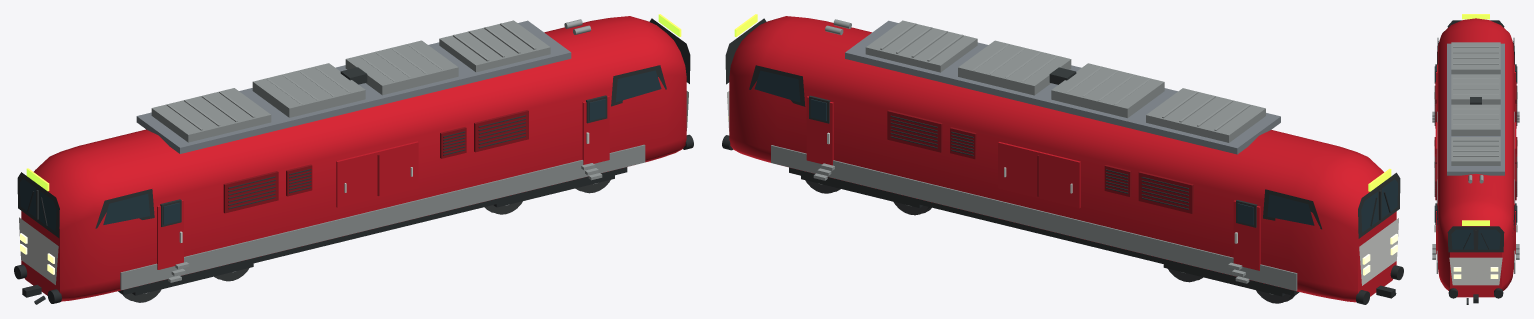
3 views of the same model, side by side, from view 1: azimuth 30°, elevation 25°; view 2: azimuth 150°, elevation 25°; view 3: azimuth 270°, elevation 25° (orthographic). The views are drawn at different scales.
Visible parts, largest first — view 1: br245_lofted_body, br245_lower_grey_band_-1, br245_roof_spine, br245_centre_access_panel_-1, br245_roof_module_1, br245_roof_module_0, br245_roof_module_2, br245_roof_module_3, br245_underframe, br245_engine_grille_-1_0, br245_engine_grille_-1_3, br245_cab_-1_light_fascia (+16 smaller); view 2: br245_lofted_body, br245_lower_grey_band_1, br245_roof_spine, br245_centre_access_panel_1, br245_roof_module_1, br245_roof_module_0, br245_roof_module_2, br245_roof_module_3, br245_underframe, br245_bogie_b, br245_engine_grille_1_3, br245_engine_grille_1_0 (+14 smaller); view 3: br245_lofted_body, br245_roof_spine, br245_roof_module_2, br245_roof_module_0, br245_roof_module_1, br245_cab_1_light_fascia, br245_roof_module_3, br245_cab_1_windscreen_mask, br245_cab_1_windscreen_1, br245_cab_1_windscreen_-1, br245_cab_1_destination_display, br245_cab_-1_destination_display (+20 smaller).
Boxes of the visible parts, x1,y1,x2,y2 form: br245_lofted_body: (21, 16, 686, 301); br245_lower_grey_band_-1: (120, 144, 645, 290); br245_roof_spine: (136, 20, 571, 153); br245_centre_access_panel_-1: (336, 141, 418, 207); br245_roof_module_1: (252, 63, 365, 117); br245_roof_module_0: (151, 88, 271, 142); br245_roof_module_2: (345, 40, 458, 95); br245_roof_module_3: (439, 20, 550, 72); br245_underframe: (118, 167, 627, 295); br245_engine_grille_-1_0: (223, 171, 278, 213); br245_engine_grille_-1_3: (474, 110, 528, 152); br245_cab_-1_light_fascia: (19, 217, 58, 284); br245_lofted_body: (729, 16, 1396, 302); br245_lower_grey_band_1: (771, 145, 1297, 290); br245_roof_spine: (845, 20, 1280, 154); br245_centre_access_panel_1: (998, 142, 1080, 208); br245_roof_module_1: (1051, 63, 1164, 118); br245_roof_module_0: (1146, 88, 1265, 142); br245_roof_module_2: (958, 40, 1071, 95); br245_roof_module_3: (865, 20, 977, 72); br245_underframe: (789, 167, 1299, 295); br245_bogie_b: (801, 170, 931, 215); br245_engine_grille_1_3: (887, 110, 942, 152); br245_engine_grille_1_0: (1138, 171, 1193, 213); br245_lofted_body: (1437, 18, 1514, 297); br245_roof_spine: (1447, 43, 1504, 175); br245_roof_module_2: (1451, 104, 1500, 135); br245_roof_module_0: (1451, 42, 1500, 74); br245_roof_module_1: (1451, 74, 1500, 104); br245_cab_1_light_fascia: (1449, 257, 1502, 285); br245_roof_module_3: (1451, 137, 1500, 165); br245_cab_1_windscreen_mask: (1447, 226, 1504, 252); br245_cab_1_windscreen_1: (1478, 229, 1500, 249); br245_cab_1_windscreen_-1: (1451, 229, 1473, 249); br245_cab_1_destination_display: (1462, 220, 1489, 225); br245_cab_-1_destination_display: (1462, 14, 1489, 19).
Bounding box in the file's own units: 19.88 × 4.75 × 3.41.
